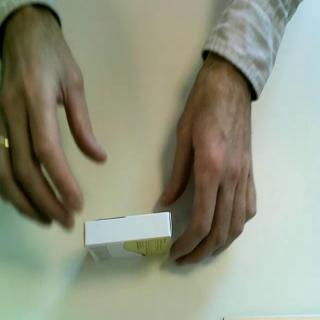buprefarm5ug_hour: (82, 210, 174, 264)
